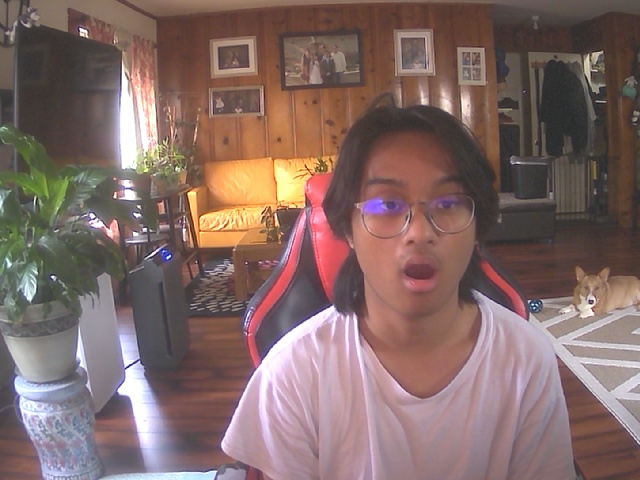fear: (339, 108, 488, 321)
